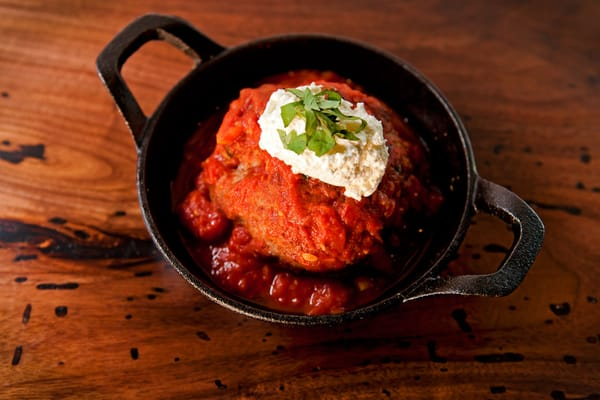sushi: (135, 26, 519, 328)
